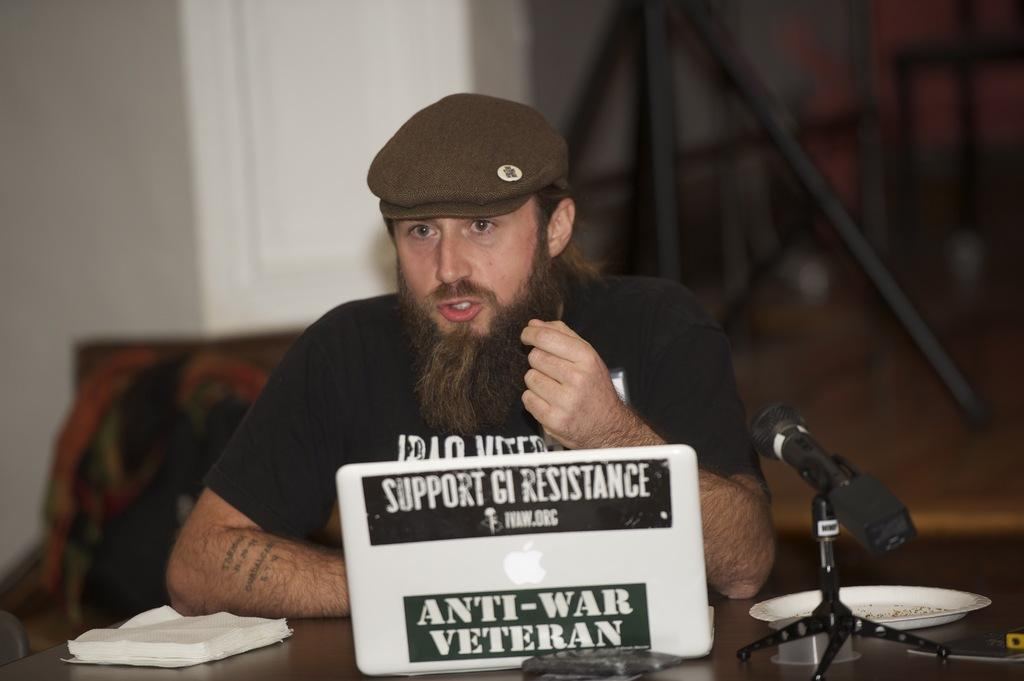Hat: (361, 90, 566, 224)
